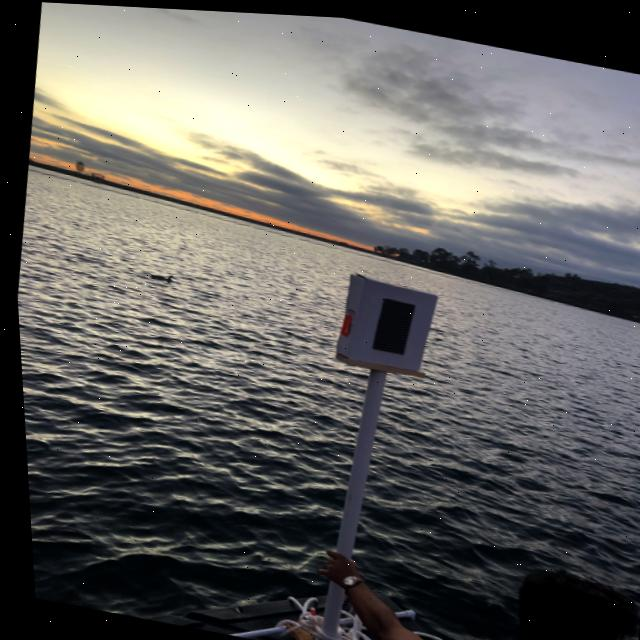led: (347, 279, 433, 377)
